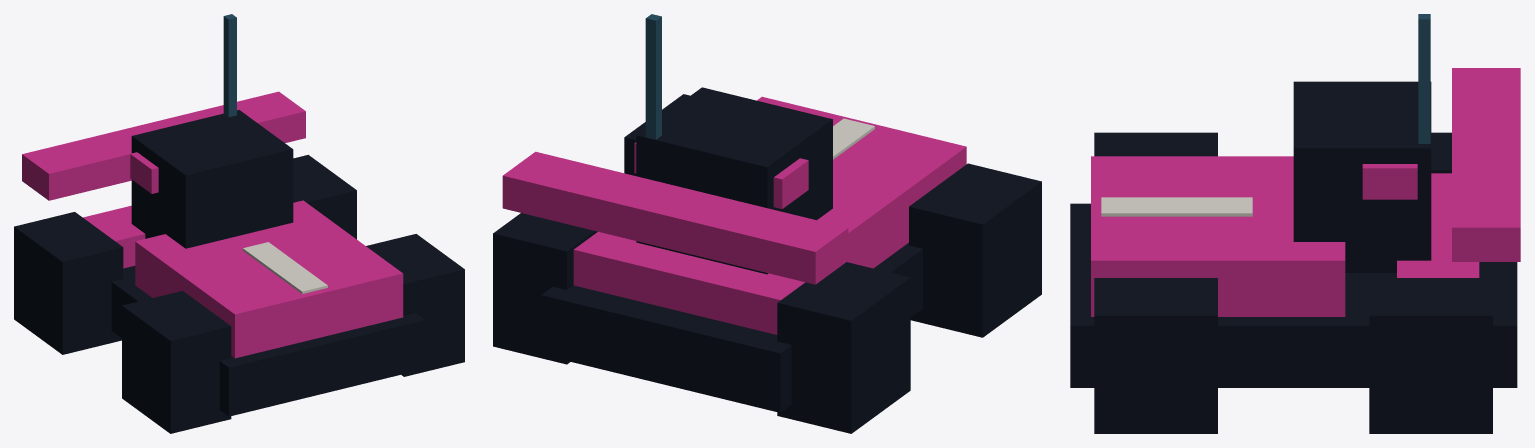
Rendered from kart-fast-1.glb.
3 renders of one model, left to right at view 1: azimuth 30°, elevation 25°; view 2: azimuth 150°, elevation 25°; view 3: azimuth 270°, elevation 25°, orthographic. The views are drawn at different scales.
Visible parts, largest first — view 1: Kart; view 2: Kart; view 3: Kart.
Part boxes in pixels (box(x1,y1,x2,y2)): Kart: box(14, 14, 464, 433); Kart: box(493, 14, 1041, 433); Kart: box(1070, 14, 1520, 433).
Bounding box in the file's own units: 0.63 × 0.565 × 0.655.
